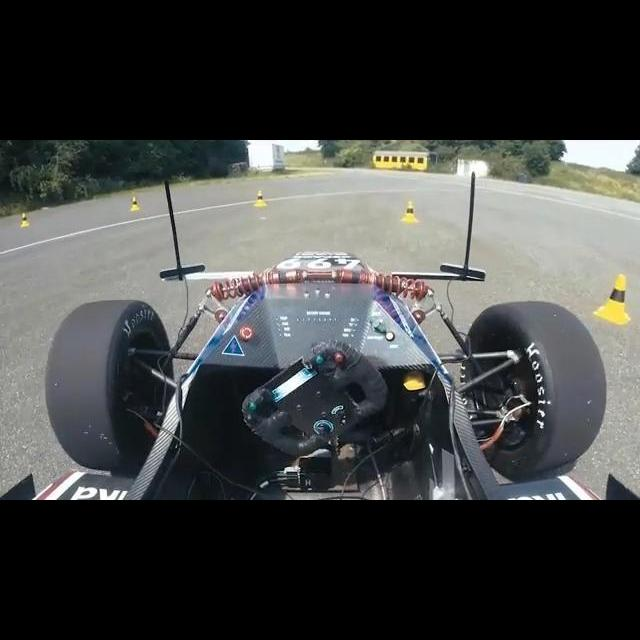Safety Cone: (594, 274, 631, 325), (401, 201, 419, 223), (254, 191, 267, 207), (21, 213, 30, 228), (130, 196, 139, 211)
vehicle: (0, 172, 640, 500)
